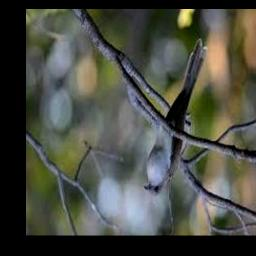Cuckoo: (143, 39, 207, 198)
